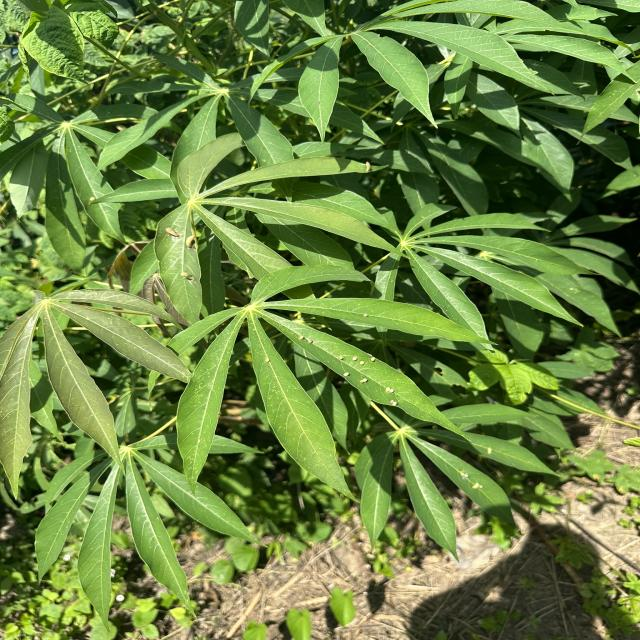Maleza: (473, 347, 558, 406)
Mosca: (332, 347, 378, 390), (166, 223, 214, 262), (452, 464, 490, 502), (376, 381, 405, 417), (73, 187, 111, 213), (473, 439, 508, 462), (291, 331, 322, 351), (261, 348, 280, 376), (355, 305, 376, 327), (181, 265, 202, 285), (356, 155, 374, 175)
